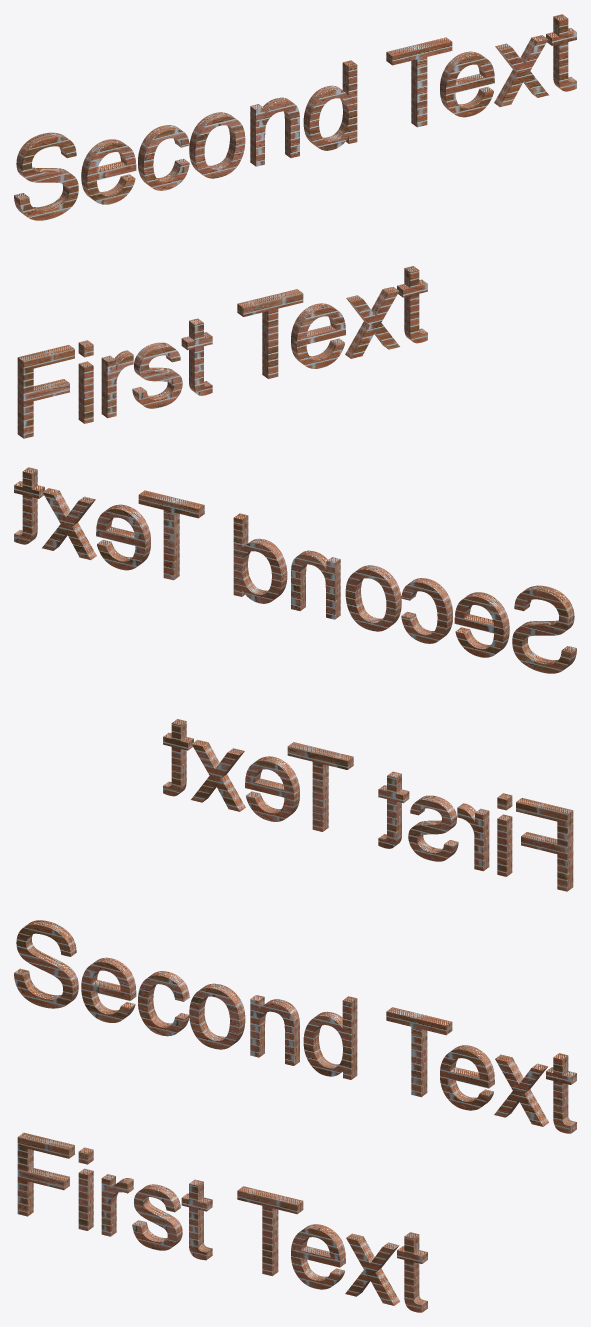
File: TwoText2.obj
3 renders of one model, top to bottom at view 1: azimuth 30°, elevation 25°; view 2: azimuth 150°, elevation 25°; view 3: azimuth 330°, elevation 25°, orthographic.
Parts seen in each view (by area): view 1: object 1, _2; view 2: _1, _2; view 3: object 1, _2.
Boxes of the visible parts, x1,y1,x2,y2 form: object 1: (20, 18, 576, 438); _2: (14, 14, 576, 438); _1: (14, 471, 570, 891); _2: (14, 467, 576, 891); object 1: (14, 924, 570, 1312); _2: (14, 920, 576, 1312).
Bounding box in the file's own units: 34.92 × 17.77 × 0.645.
6 materials, 6 textured.
